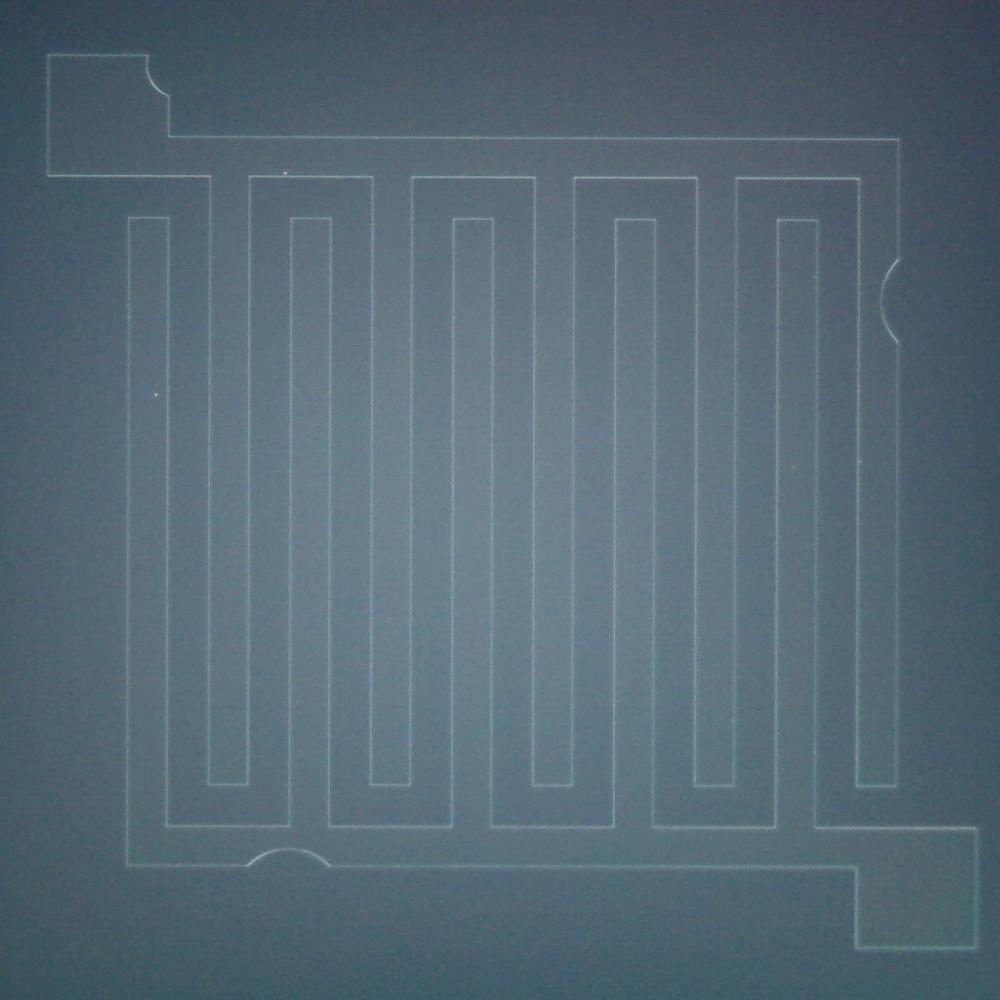curve circuit: (870, 247, 922, 357), (225, 838, 346, 879), (129, 43, 186, 110)
